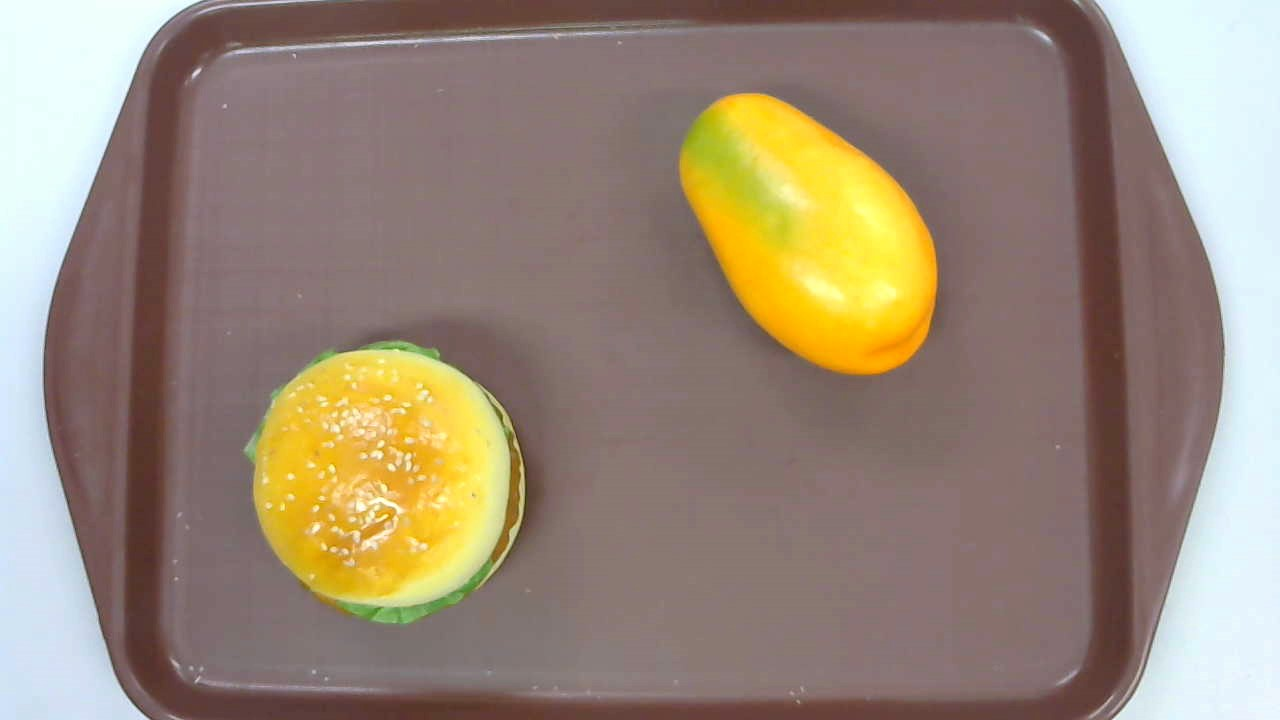hamburger: (244, 339, 526, 622)
papya: (678, 93, 937, 375)
